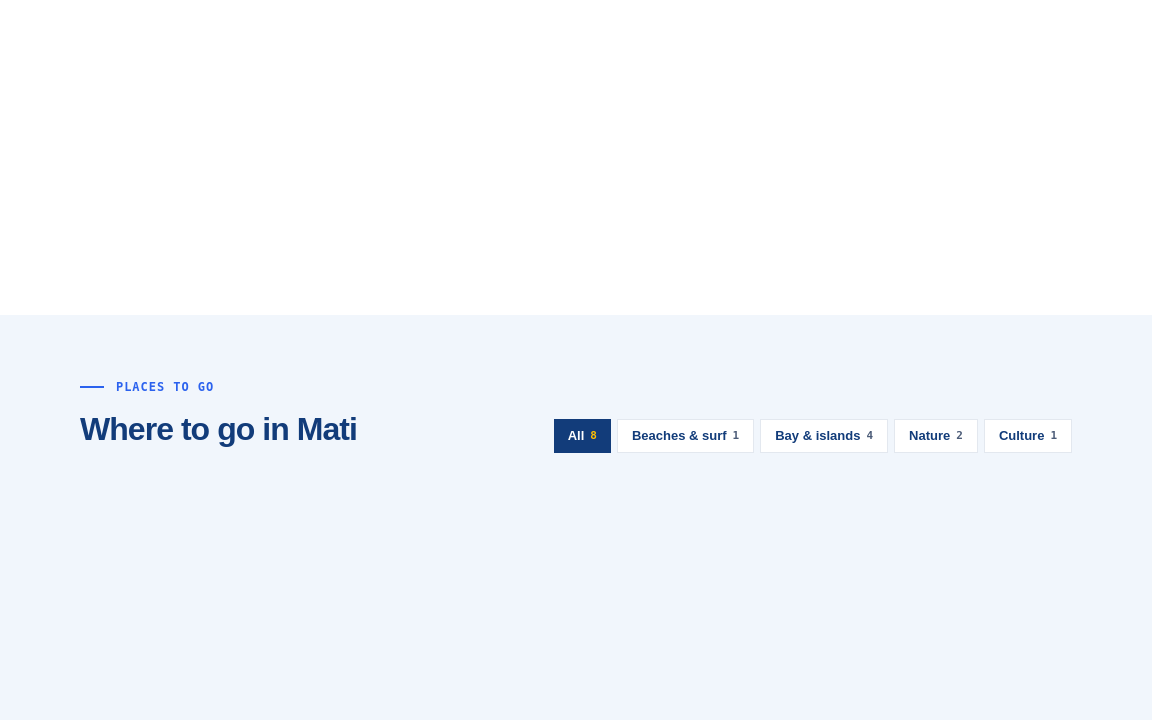
Test case: Visit Mati hub page › filters the directory when a category chip is pressed
(page scrolled)
Click the button "Culture 1".
click(1028, 436)  # box x1=984 y1=419 x2=1072 y2=453
(page scrolled)
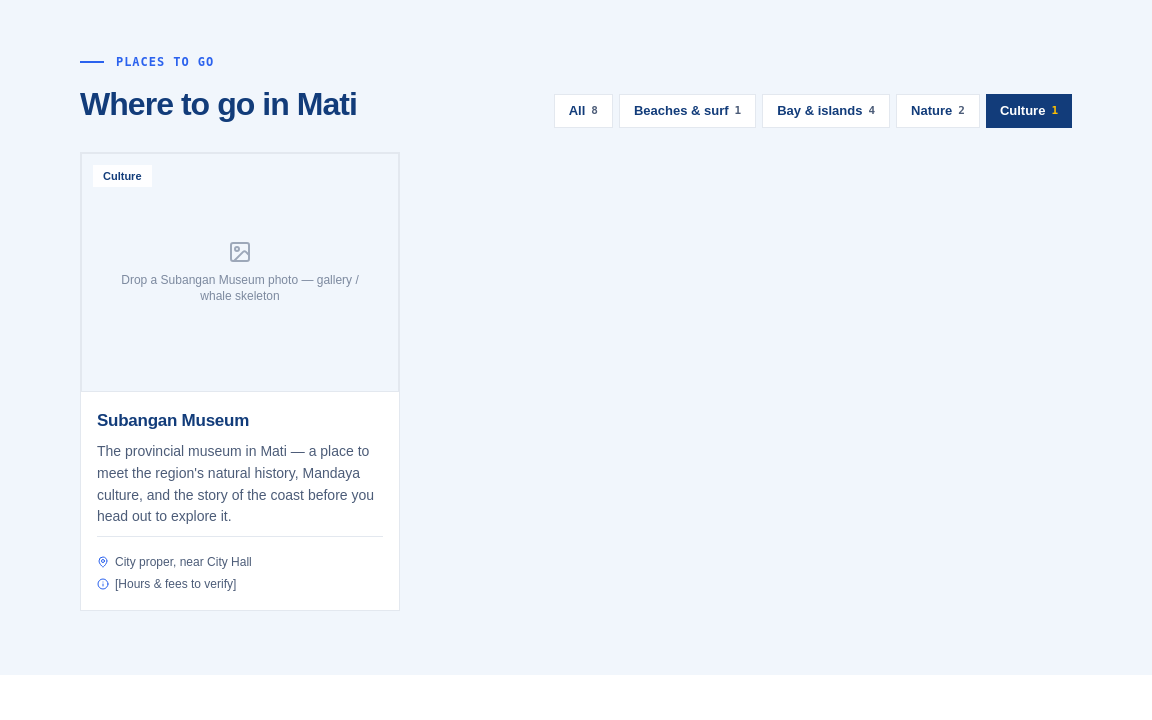
expect the heading "Subangan Museum" is shown: met, box x1=97 y1=411 x2=249 y2=430
